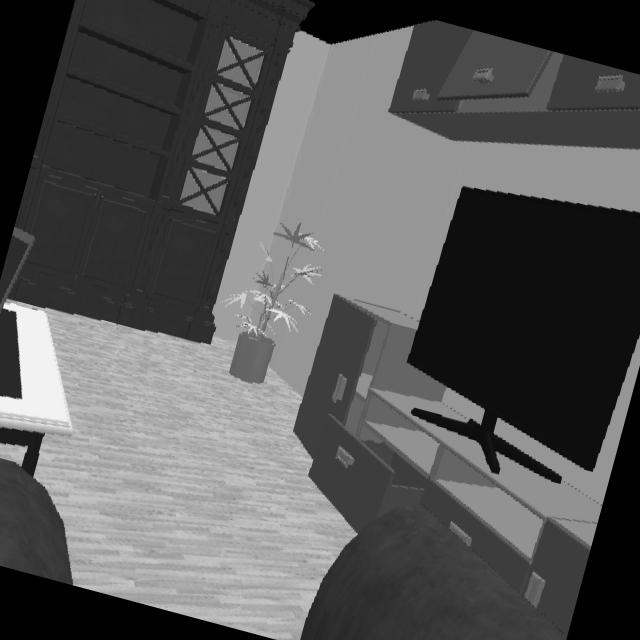cabinet: (293, 295, 601, 634), (11, 0, 310, 341), (389, 20, 640, 149)
laptop: (0, 228, 33, 313)
sofa: (299, 507, 565, 640), (0, 458, 72, 583)
table: (0, 305, 72, 475)
